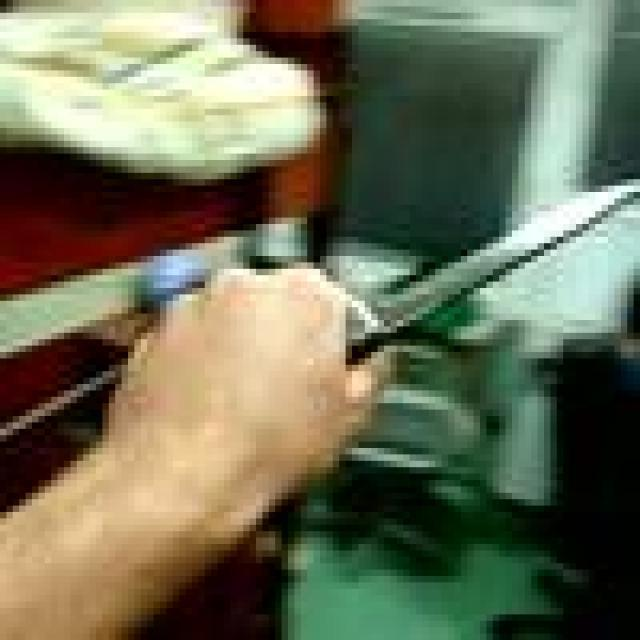knife: (231, 135, 634, 404)
